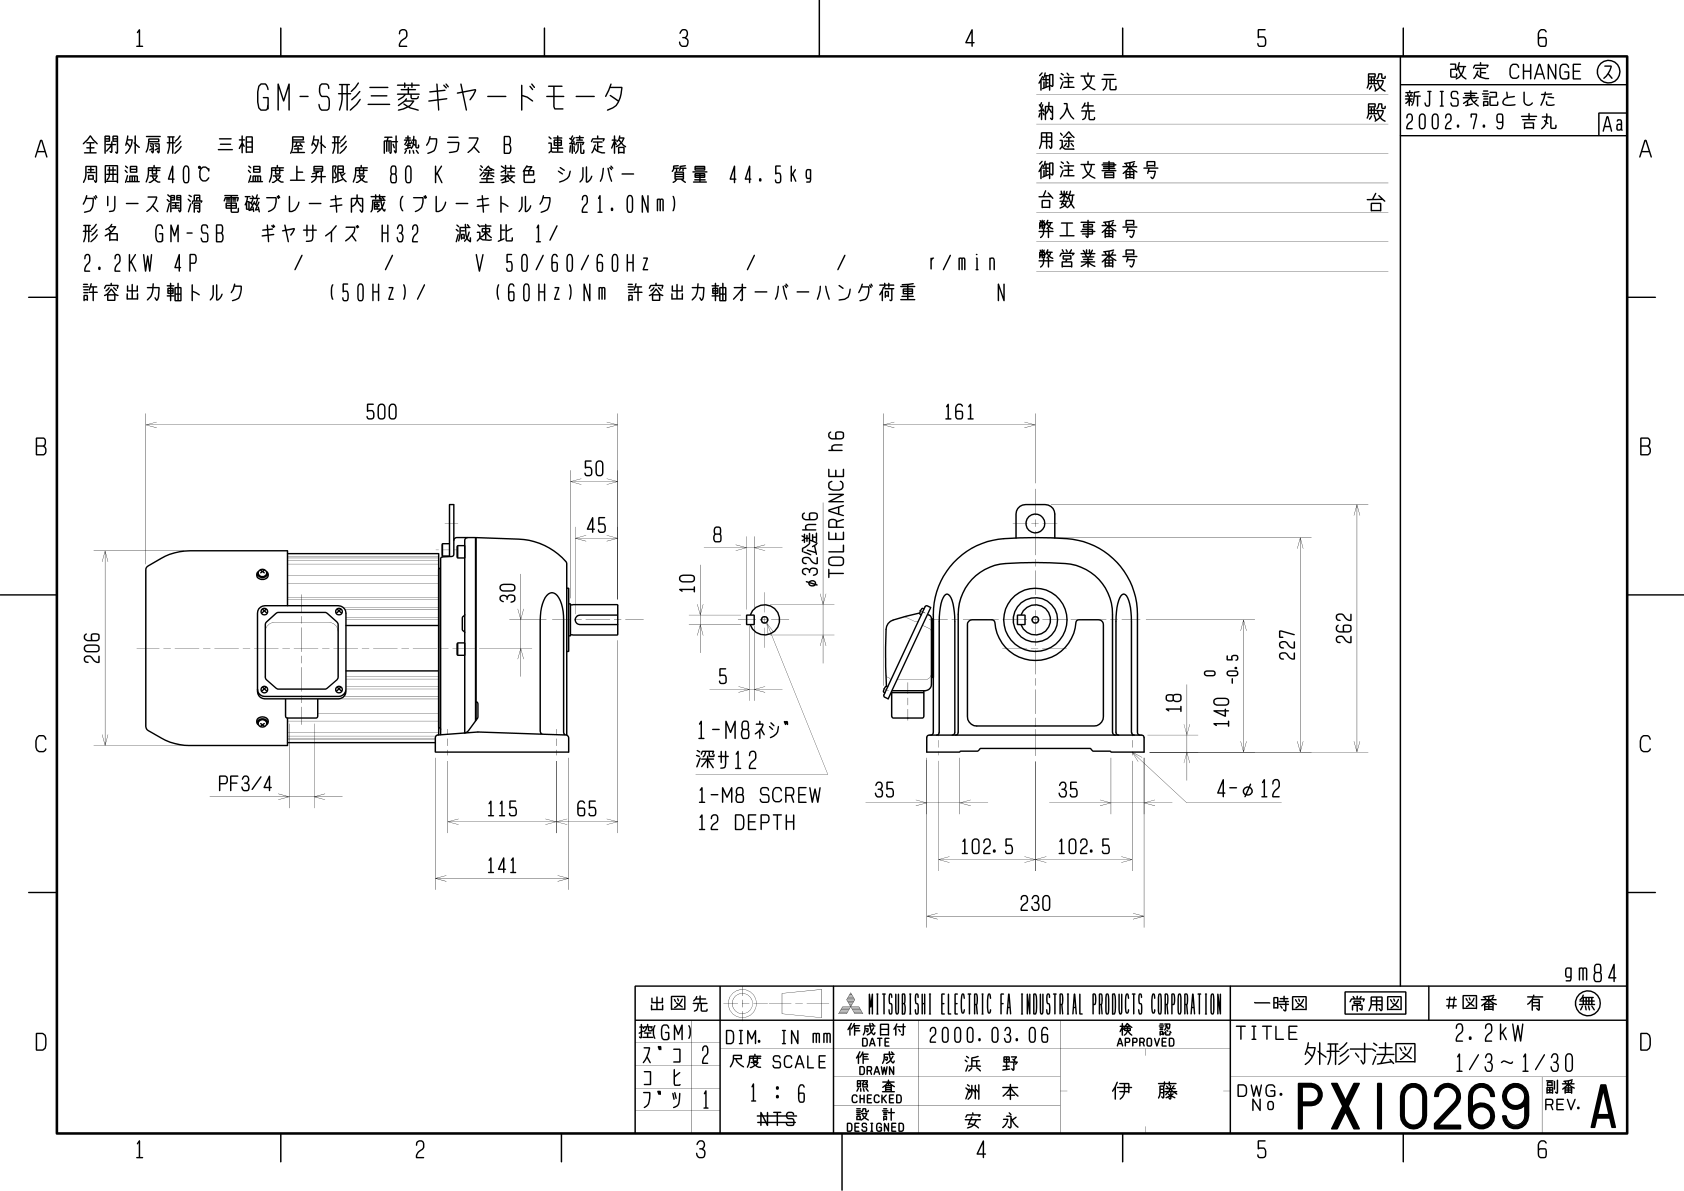GM_S_屋外＿三相_脚: (71, 363, 1381, 947)
